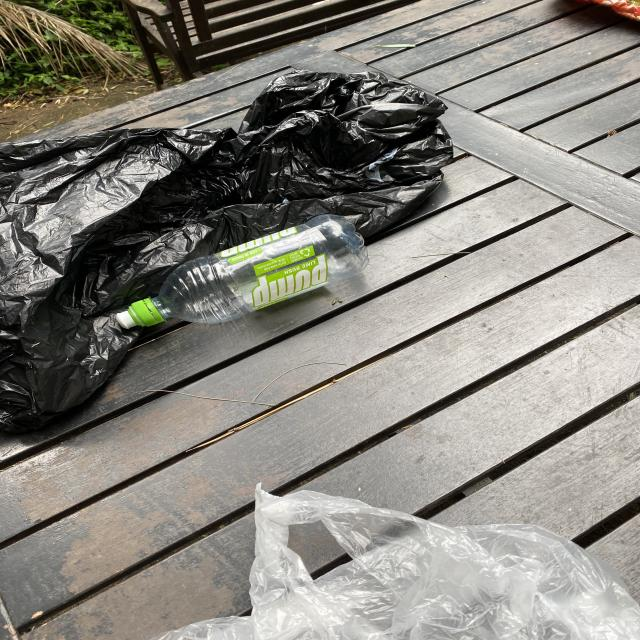bag: (0, 70, 455, 437), (148, 483, 640, 640)
bottle: (116, 215, 370, 330)
